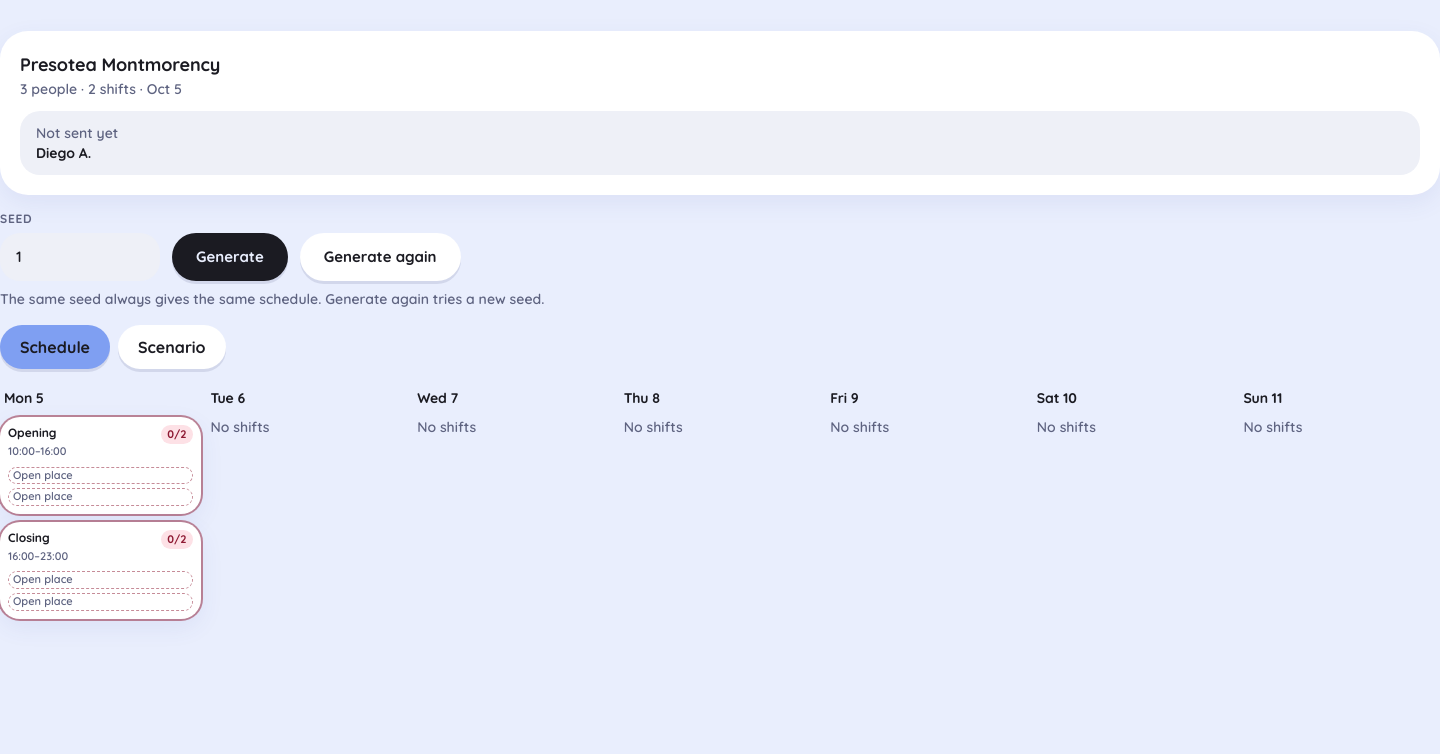
it: LabPage › says what is wrong with pasted text that is not a scenario
The image size is (1440, 754).
Click the tab "Scenario": (172, 347) [118, 325, 226, 369]
(page scrolled)
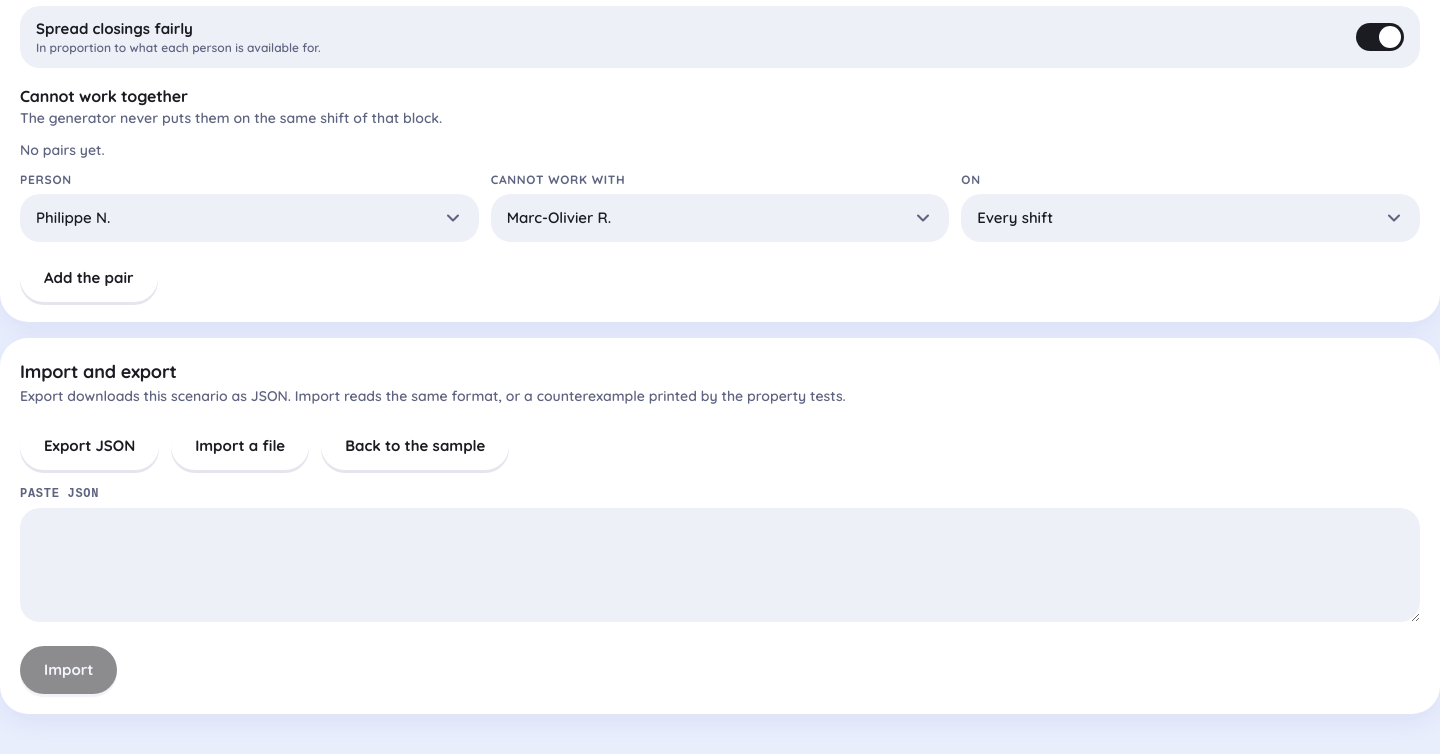
Click the text box labelled "Paste JSON": (720, 565) [20, 508, 1420, 622]
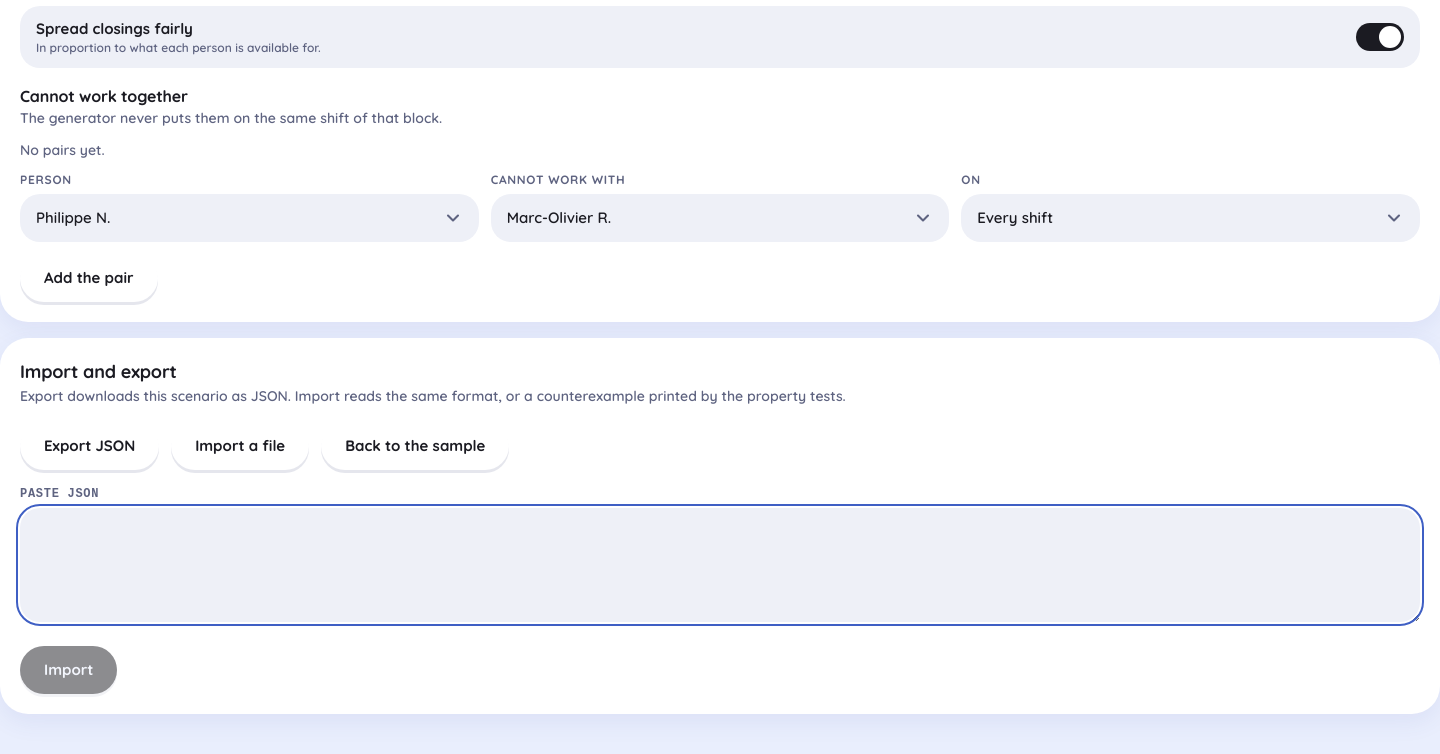
Type keys "{ nope"
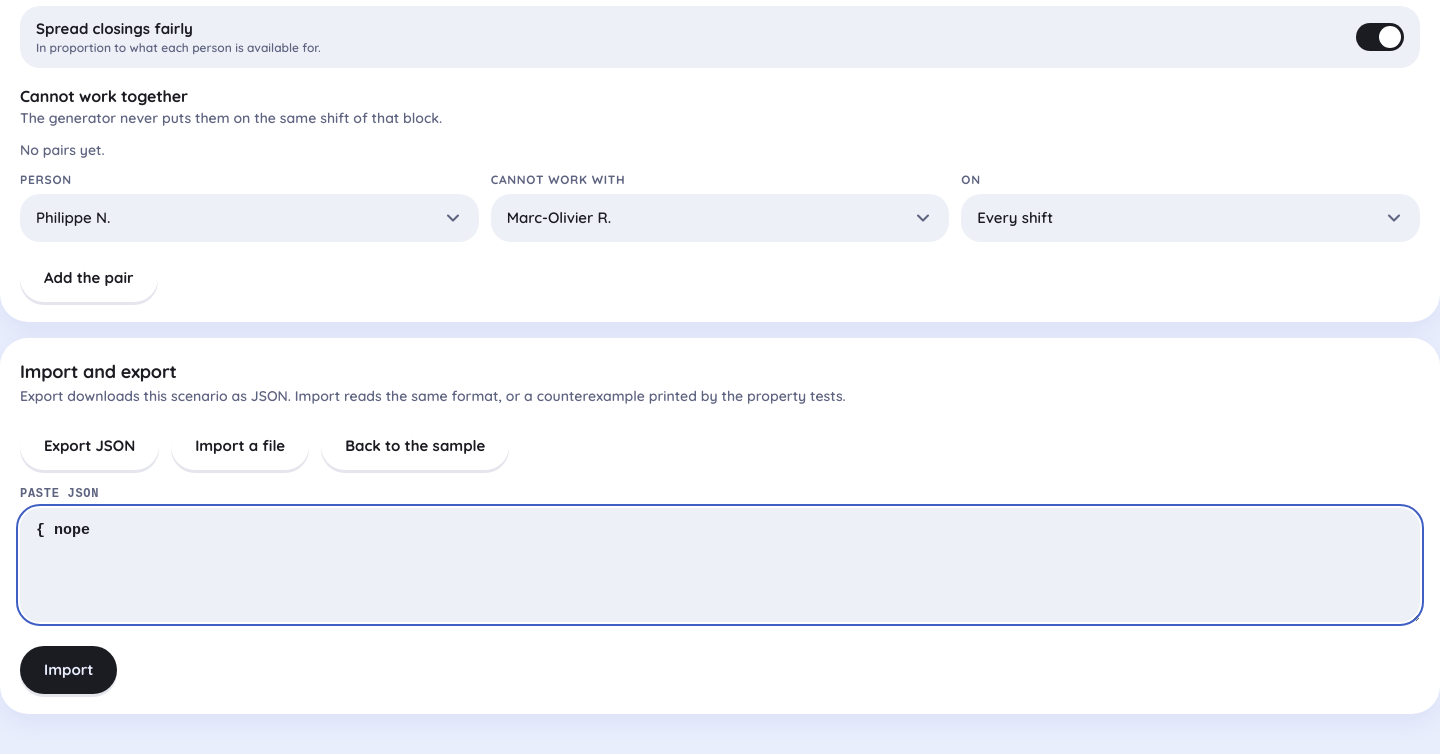
Click the button "Import": (69, 670) [20, 646, 117, 694]
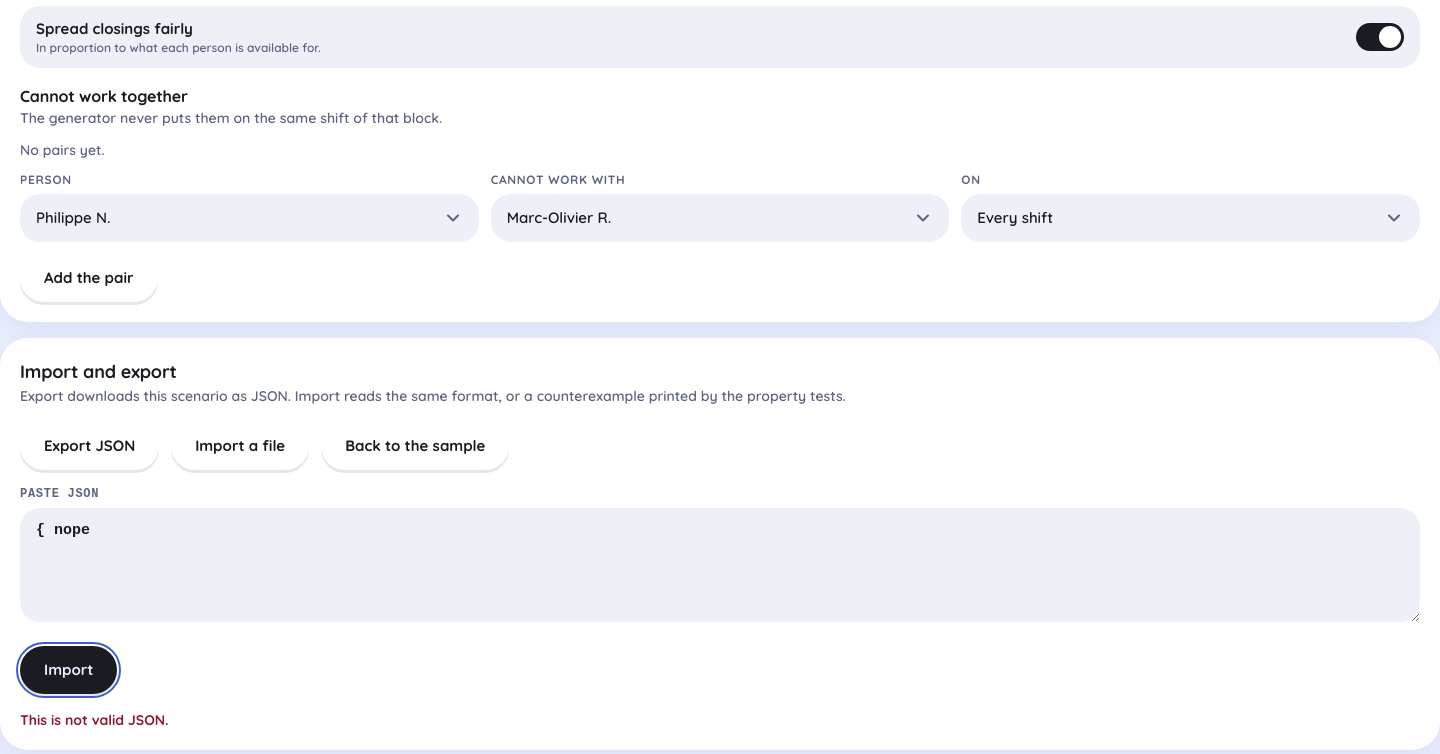
Check: the message reads "This is not valid JSON.", box [20, 711, 169, 729]
